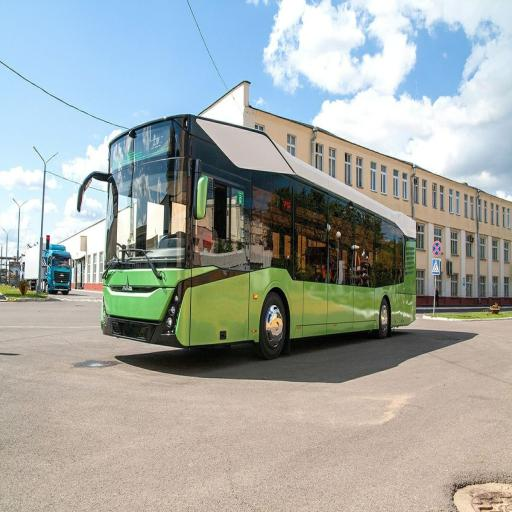elevator: (33, 146, 58, 293)
glass_wall: (0, 293, 512, 512)
pole: (46, 235, 50, 252)
